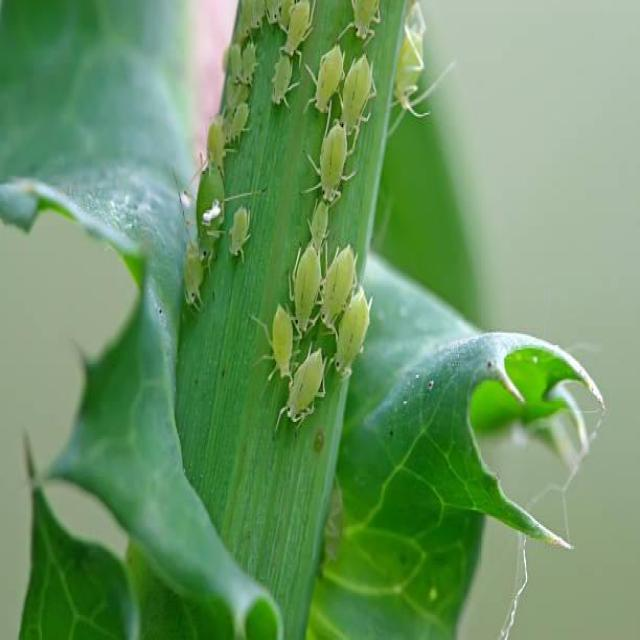Aphids: (271, 339, 334, 438), (190, 162, 230, 272), (315, 236, 360, 332), (332, 49, 380, 137), (332, 286, 372, 386), (303, 39, 350, 122), (311, 123, 355, 203), (288, 235, 320, 344), (258, 302, 299, 380), (180, 233, 214, 314), (228, 192, 255, 276), (266, 53, 301, 110), (282, 0, 316, 57), (305, 196, 333, 254), (237, 36, 263, 89)
